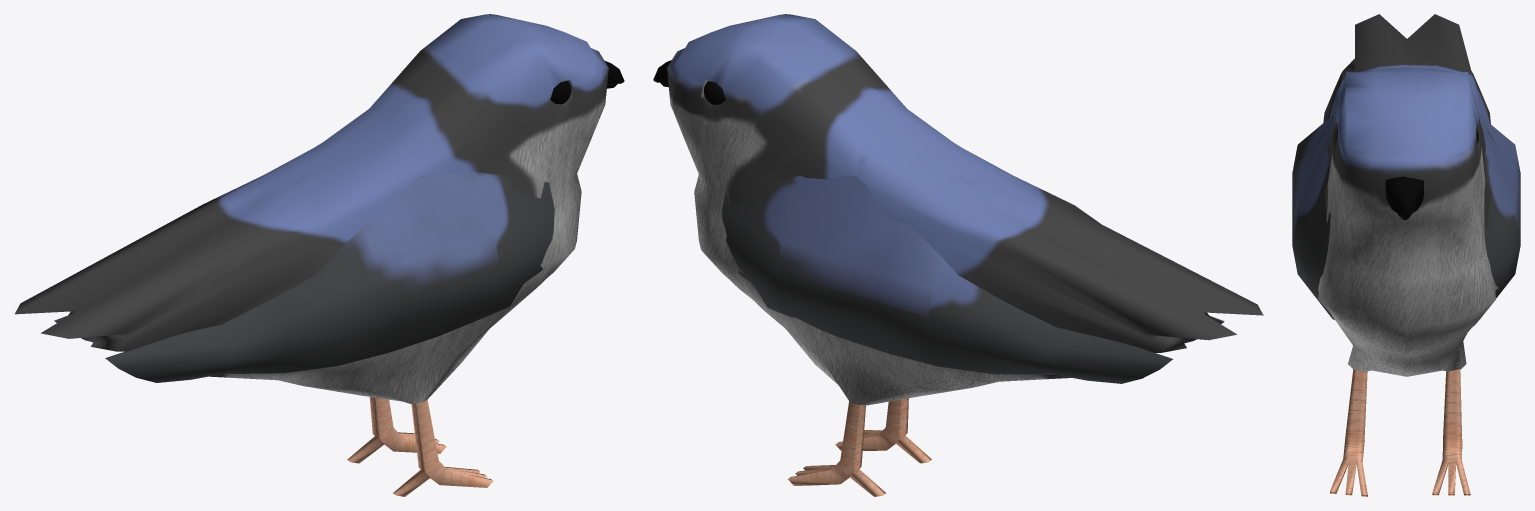
The model's file is golondrina-plomiza.glb.
3 views of the same model, side by side, from view 1: azimuth 30°, elevation 25°; view 2: azimuth 150°, elevation 25°; view 3: azimuth 270°, elevation 25° (orthographic). The views are drawn at different scales.
Visible parts, largest first — view 1: GolondrinaPlomiza; view 2: GolondrinaPlomiza; view 3: GolondrinaPlomiza.
Boxes of the visible parts, <box> form: GolondrinaPlomiza: <box>15,14,624,496</box>; GolondrinaPlomiza: <box>653,14,1263,496</box>; GolondrinaPlomiza: <box>1292,14,1520,496</box>.
Size of the model in its own units: 0.0745 by 0.05 by 0.0231.
Materials: 9 (9 with a texture image).
